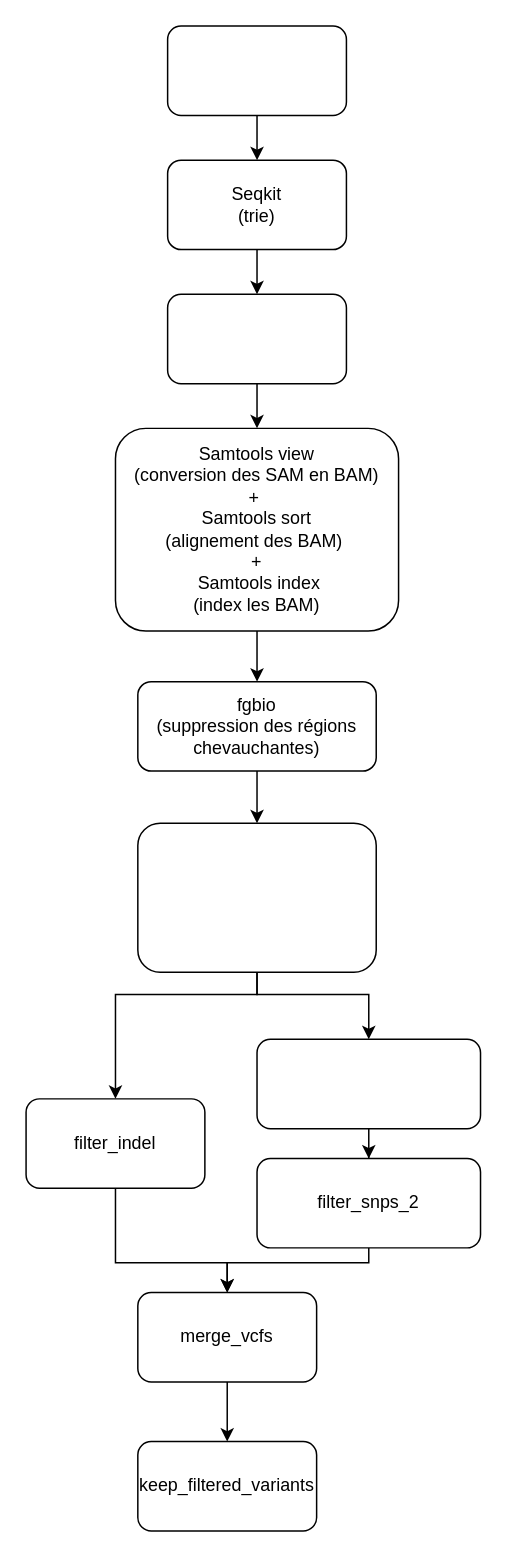
The diagram is 507 pixels wide and 1557 high, and some of its shapes have lost their labels. The box of each missing label's shape, as (x1, y1, x2, y2) in pixels:
Bwa (mapping des reads): (166, 293, 346, 384)
filter_snps: (256, 1038, 481, 1129)
Gatk HaplotypeCaller + Gatk GenotypeGVCFs + Gatk IndexFeatureFile: (136, 822, 376, 972)
Input sample (fastq): (166, 25, 346, 115)
